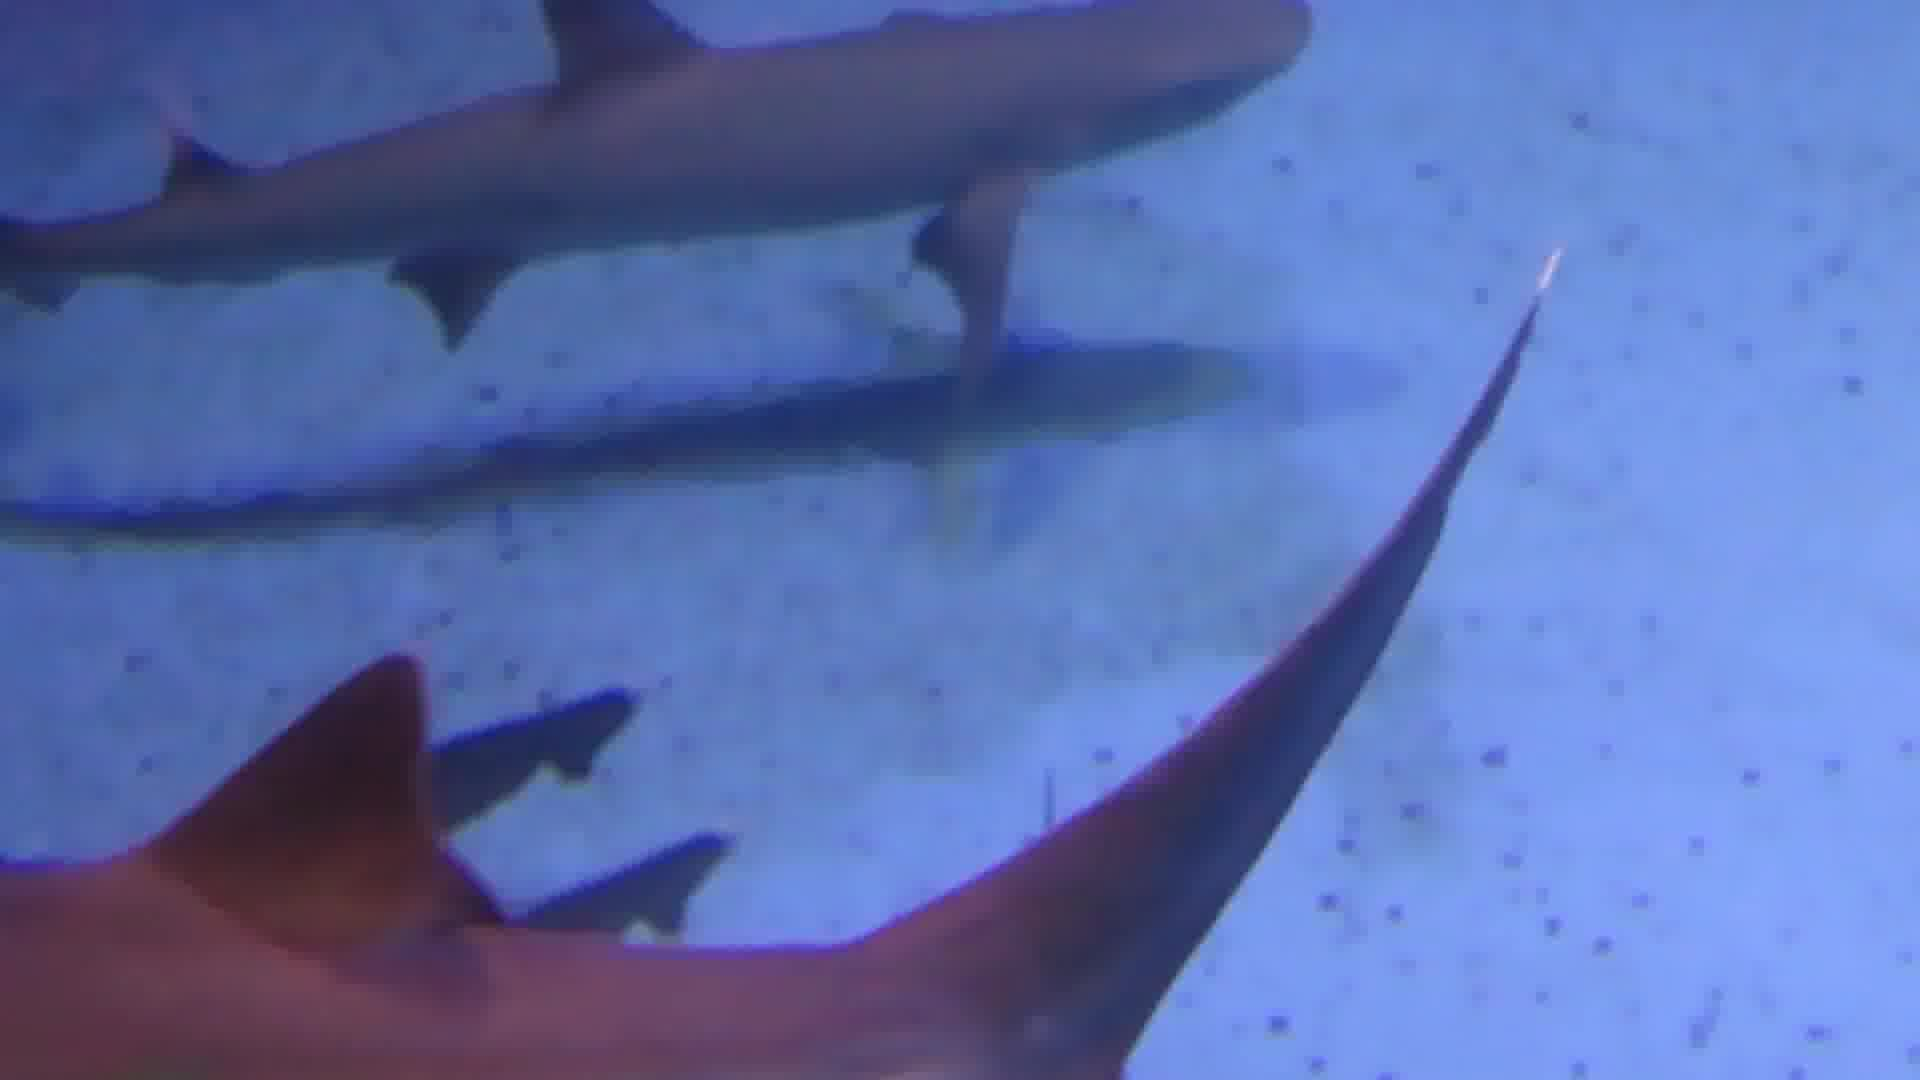Triaenodon obesus: (1, 555, 1458, 1080), (1, 4, 1445, 406)
